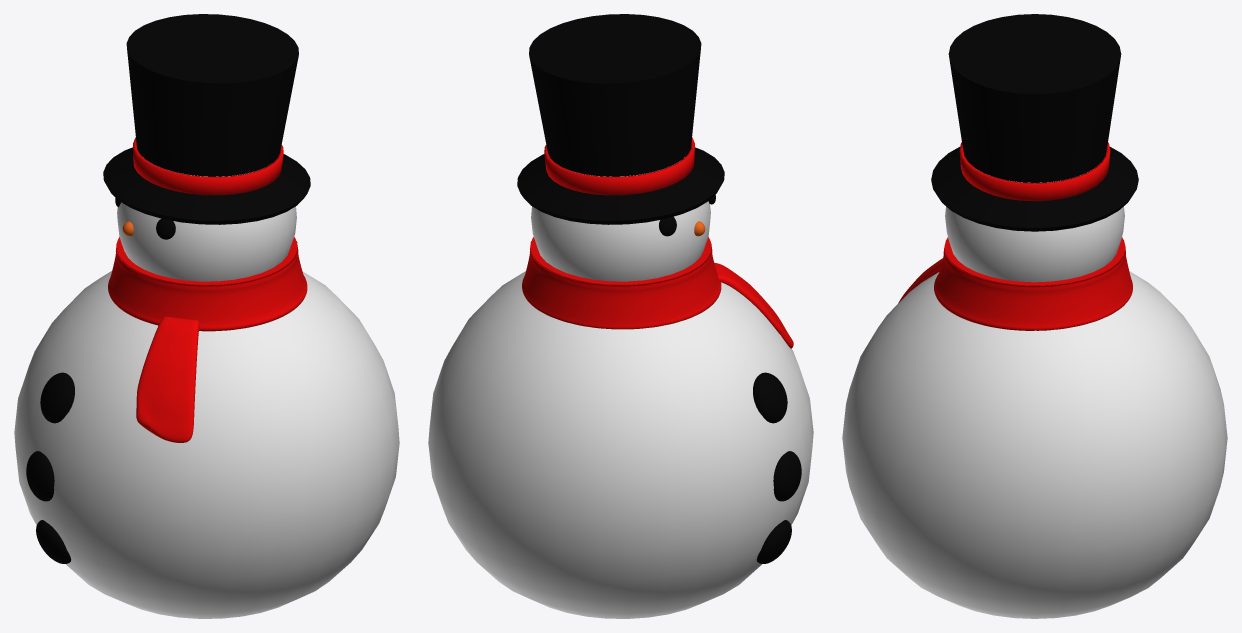
3 views of the same model, side by side, from view 1: azimuth 30°, elevation 25°; view 2: azimuth 150°, elevation 25°; view 3: azimuth 270°, elevation 25° (orthographic).
Visible parts, largest first — view 1: Sphere.004, Circle, Sphere.003, Sphere.001, Sphere.002, Circle.001, Sphere.006, Sphere, Sphere.005; view 2: Sphere.004, Circle, Sphere.003, Sphere.001, Circle.001, Sphere.006, Sphere.002, Sphere, Sphere.005; view 3: Sphere.004, Circle, Sphere.003, Sphere.001, Circle.001.
Part boxes in pixels (box(x1,y1,x2,y2)): Sphere.004: box(14, 271, 399, 618); Circle: box(103, 14, 310, 224); Sphere.003: box(108, 237, 307, 331); Sphere.001: box(117, 157, 296, 281); Sphere.002: box(136, 316, 199, 442); Circle.001: box(133, 137, 283, 195); Sphere.006: box(40, 372, 74, 423); Sphere: box(26, 451, 54, 501); Sphere.005: box(36, 520, 71, 563); Sphere.004: box(428, 271, 813, 618); Circle: box(517, 14, 724, 224); Sphere.003: box(522, 237, 721, 329); Sphere.001: box(531, 157, 710, 281); Circle.001: box(544, 137, 694, 195); Sphere.006: box(753, 372, 787, 423); Sphere.002: box(714, 263, 793, 348); Sphere: box(773, 451, 801, 501); Sphere.005: box(756, 520, 791, 563); Sphere.004: box(842, 271, 1227, 618); Circle: box(931, 14, 1138, 231); Sphere.003: box(934, 237, 1132, 330); Sphere.001: box(945, 170, 1124, 282); Circle.001: box(959, 142, 1110, 201).
Bounding box in the file's own units: 205 × 309 × 200.
